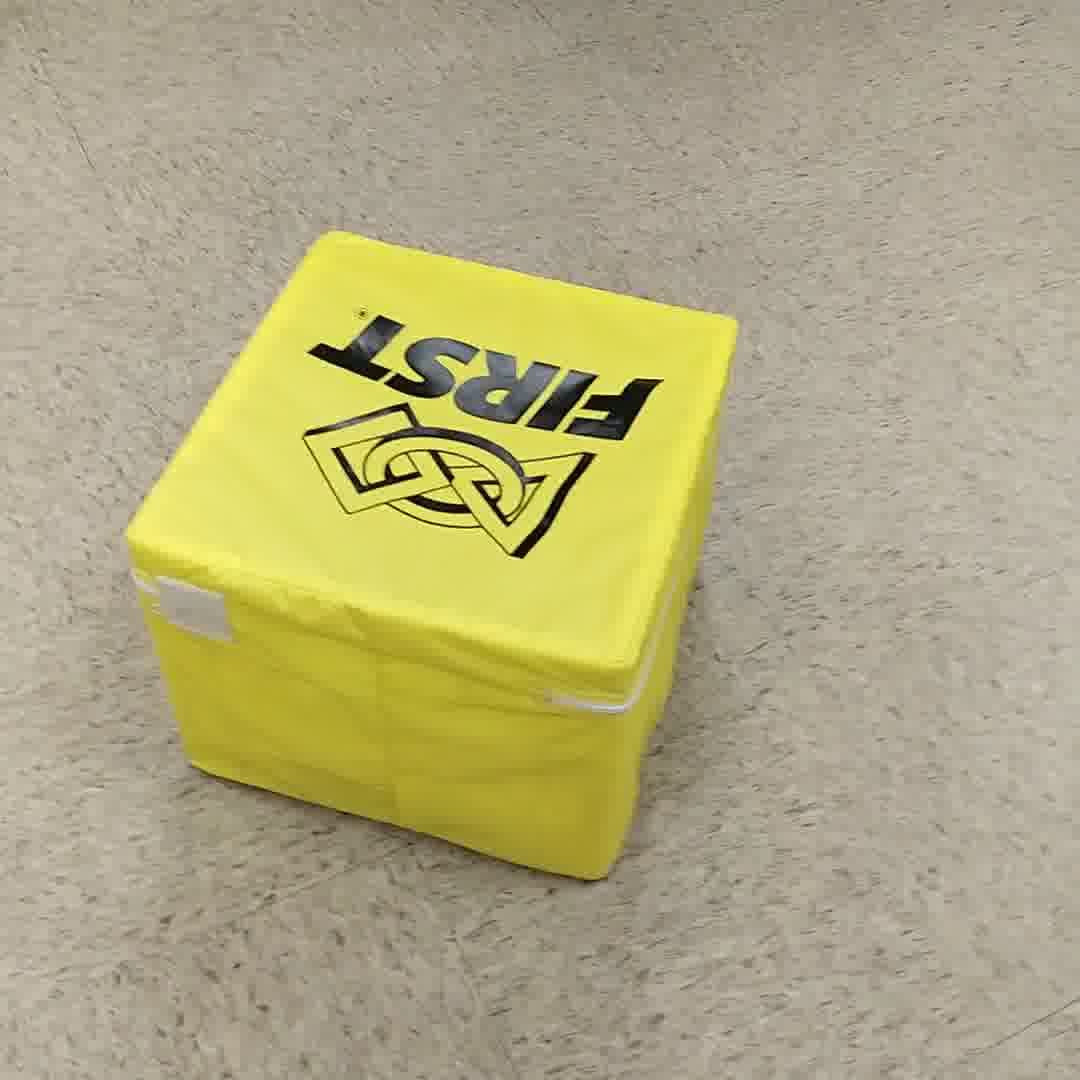box: (117, 232, 755, 883)
